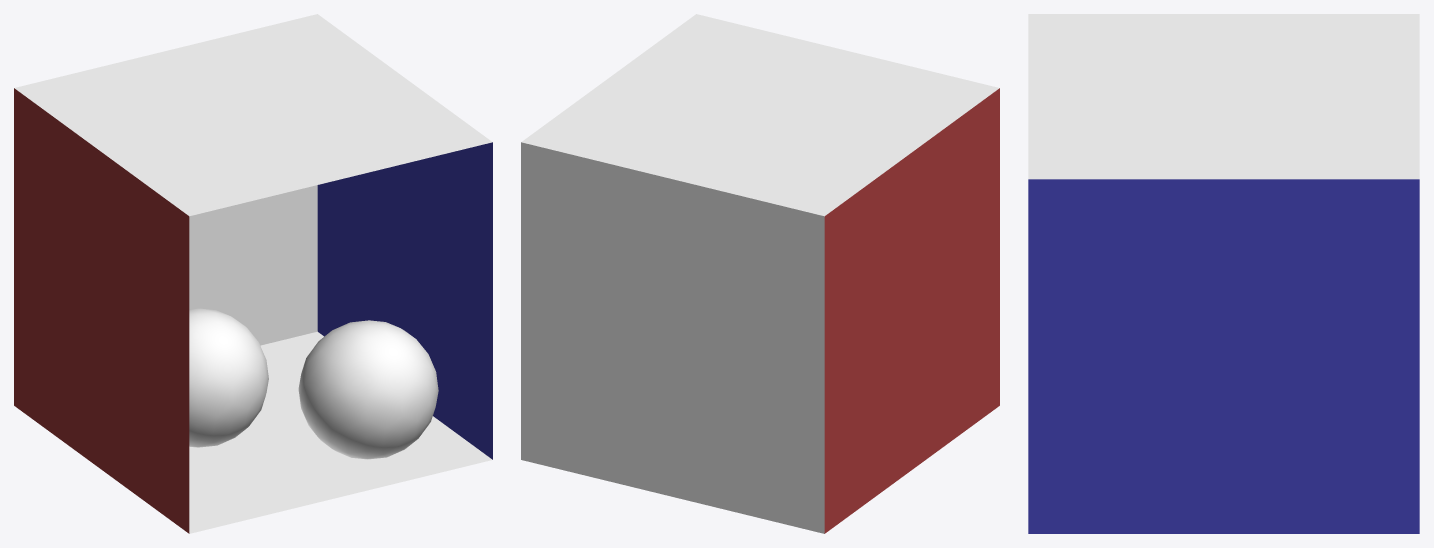
Rendered from cbox_lambertian.dae.
3 views of the same model, side by side, from view 1: azimuth 30°, elevation 25°; view 2: azimuth 150°, elevation 25°; view 3: azimuth 270°, elevation 25° (orthographic). The views are drawn at different scales.
Parts seen in each view (by area): view 1: Square-S3D-14, Square-S3D-16, Square-S3D-15, Square-S3D-18, Square-S3D-17, Object_19-S3D-20-SMOOTHED, Object_18-S3D-19-SMOOTHED; view 2: Square-S3D-17, Square-S3D-14, Square-S3D-16; view 3: Square-S3D-15, Square-S3D-16.
Part boxes in pixels (bbox=[...]): Square-S3D-14: bbox=[14, 88, 189, 533]; Square-S3D-16: bbox=[14, 14, 492, 216]; Square-S3D-15: bbox=[317, 142, 492, 459]; Square-S3D-18: bbox=[189, 331, 492, 533]; Square-S3D-17: bbox=[189, 185, 317, 345]; Object_19-S3D-20-SMOOTHED: bbox=[298, 320, 438, 459]; Object_18-S3D-19-SMOOTHED: bbox=[189, 308, 268, 447]; Square-S3D-17: bbox=[521, 142, 824, 533]; Square-S3D-14: bbox=[824, 88, 999, 533]; Square-S3D-16: bbox=[521, 14, 999, 216]; Square-S3D-15: bbox=[1028, 179, 1419, 533]; Square-S3D-16: bbox=[1028, 14, 1419, 179].
Size of the model in its own units: 1 by 1 by 1.
